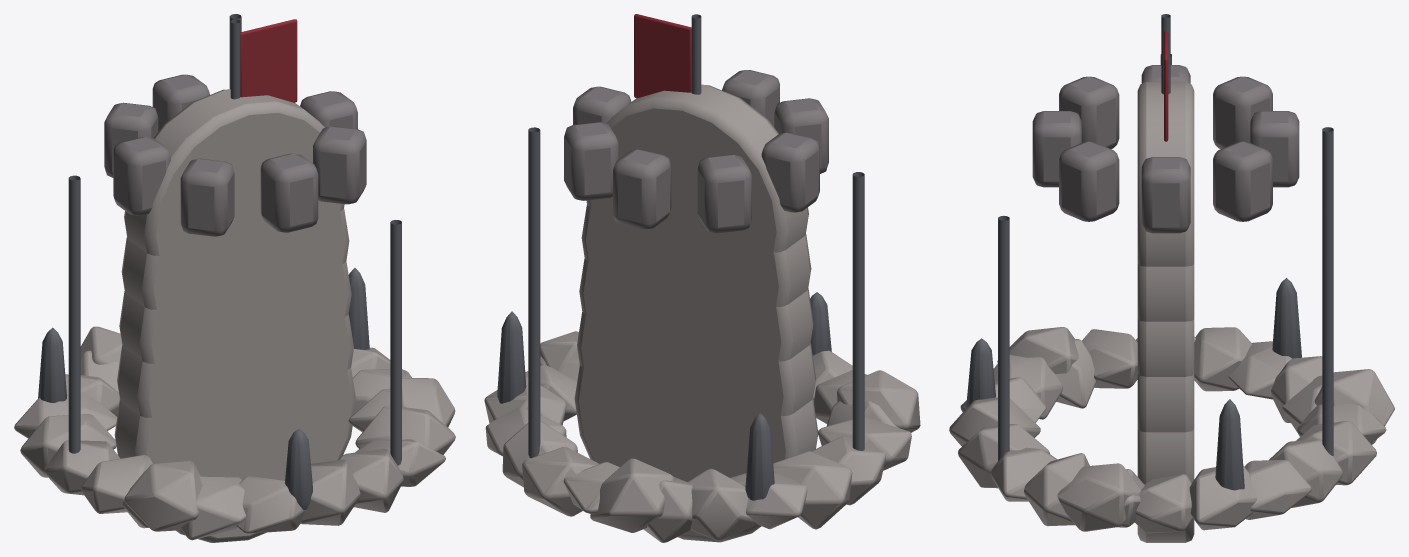
The model's file is tower.glb.
The picture shows the model from 3 angles, left to right: view 1: azimuth 30°, elevation 25°; view 2: azimuth 150°, elevation 25°; view 3: azimuth 270°, elevation 25°; orthographic projection.
Parts seen in each view (by area): view 1: TowerCourse_1, TowerCourse_3, TowerCourse_0, TowerCourse_4, TowerCourse_2, WatchCloth, Battlement_2, L5Foundation, Battlement_3, Battlement_1, L6Spire, Battlement_4 (+25 smaller); view 2: TowerCourse_1, TowerCourse_3, TowerCourse_4, TowerCourse_0, TowerCourse_2, WatchCloth, L9Spire, Battlement_6, L8Foundation, Battlement_5, Battlement_7, Battlement_4 (+25 smaller); view 3: TowerCourse_4, Battlement_1, Battlement_7, L2Foundation, L9Spire, Battlement_0, TowerCourse_0, TowerCourse_1, TowerCourse_2, TowerCourse_3, Battlement_3, Battlement_5 (+29 smaller).
Boxes of the visible parts, box(x1,y1,x2,y2) form: TowerCourse_1: box(117, 268, 353, 477); TowerCourse_3: box(121, 166, 349, 352); TowerCourse_0: box(114, 318, 356, 542); TowerCourse_4: box(124, 89, 344, 305); TowerCourse_2: box(119, 217, 351, 413); WatchCloth: box(240, 19, 297, 102); Battlement_2: box(260, 153, 318, 232); L5Foundation: box(124, 461, 202, 531); Battlement_3: box(180, 158, 234, 236); Battlement_1: box(313, 126, 366, 204); L6Spire: box(68, 175, 80, 453); Battlement_4: box(113, 137, 170, 215); TowerCourse_1: box(577, 267, 815, 478); TowerCourse_3: box(581, 161, 811, 366); TowerCourse_4: box(586, 84, 808, 309); TowerCourse_0: box(574, 315, 818, 542); TowerCourse_2: box(579, 213, 813, 421); WatchCloth: box(634, 14, 691, 98); L9Spire: box(528, 127, 540, 457); Battlement_6: box(613, 149, 671, 229); L8Foundation: box(590, 458, 674, 532); Battlement_5: box(697, 154, 751, 233); Battlement_7: box(564, 122, 618, 200); Battlement_4: box(761, 132, 819, 212); TowerCourse_4: box(1137, 82, 1194, 266); Battlement_1: box(1059, 141, 1119, 221); Battlement_7: box(1213, 141, 1272, 221); L2Foundation: box(1057, 463, 1141, 531); L9Spire: box(1322, 127, 1333, 455); Battlement_0: box(1141, 157, 1190, 233); TowerCourse_0: box(1137, 429, 1194, 542); TowerCourse_1: box(1137, 374, 1194, 432); TowerCourse_2: box(1137, 319, 1194, 376); TowerCourse_3: box(1137, 264, 1194, 321); Battlement_3: box(1059, 76, 1119, 148); Battlement_5: box(1213, 76, 1272, 148).
Bounding box in the file's own units: 3.97 × 5.23 × 4.1.
